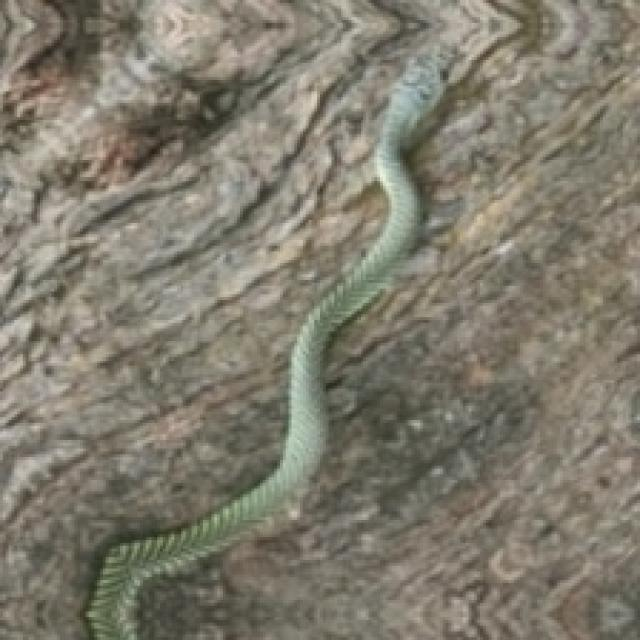paradise tree snake: (86, 46, 451, 637)
